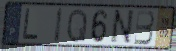6: (90, 8, 110, 44)
B: (133, 10, 156, 46)
I: (53, 7, 64, 45)
L: (22, 7, 40, 42)
N: (109, 9, 135, 45)
Q: (66, 7, 89, 44)
